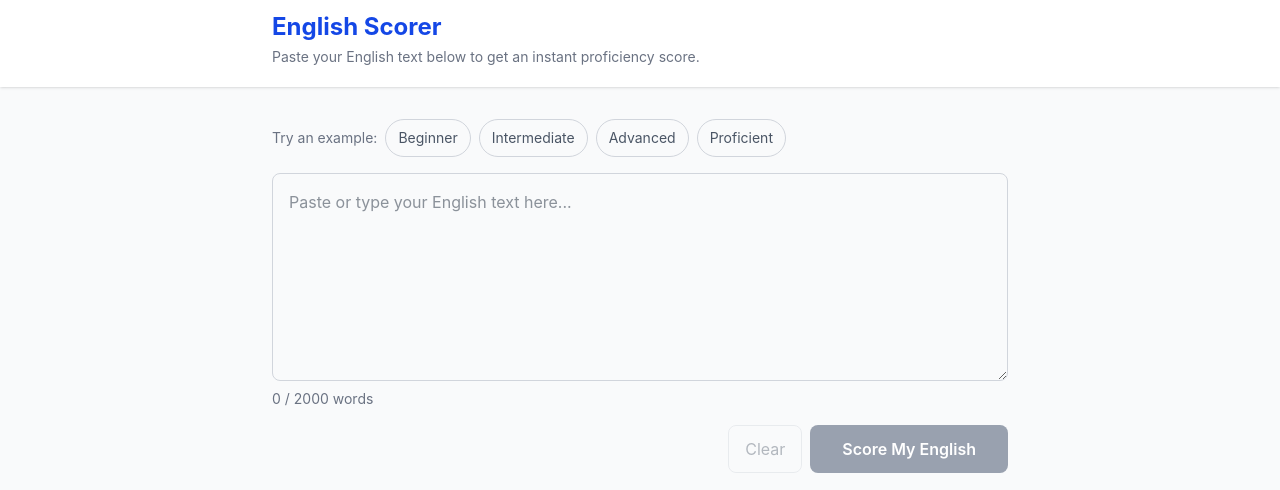
Test: App › clicking an example button enables the submit button
Click the button "Intermediate".
click(533, 138)  # box 479,119 -> 588,157
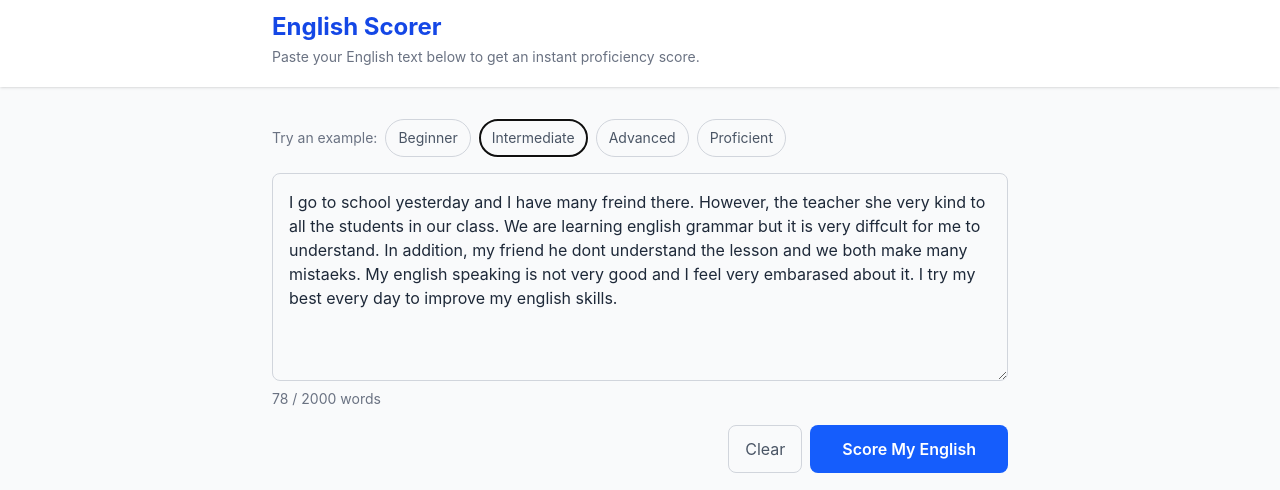
expect the button "Score My English" is enabled: met, box 810,425 -> 1008,473
